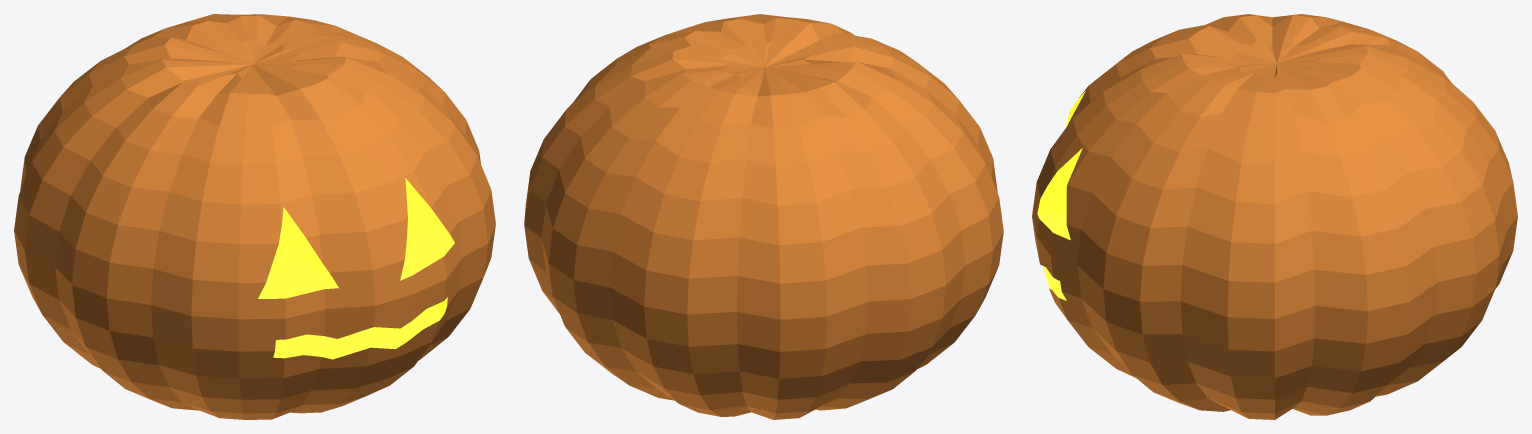
Rendered from Pumpkin.glb.
3 renders of one model, left to right at view 1: azimuth 30°, elevation 25°; view 2: azimuth 150°, elevation 25°; view 3: azimuth 270°, elevation 25°, orthographic.
Visible parts, largest first — view 1: Sphere; view 2: Sphere; view 3: Sphere.
Part boxes in pixels (x1,y1,x2,y2): Sphere: (14, 14, 495, 419); Sphere: (524, 14, 1003, 419); Sphere: (1032, 14, 1517, 419).
Size of the model in its own units: 0.4952 by 0.381 by 0.5.
